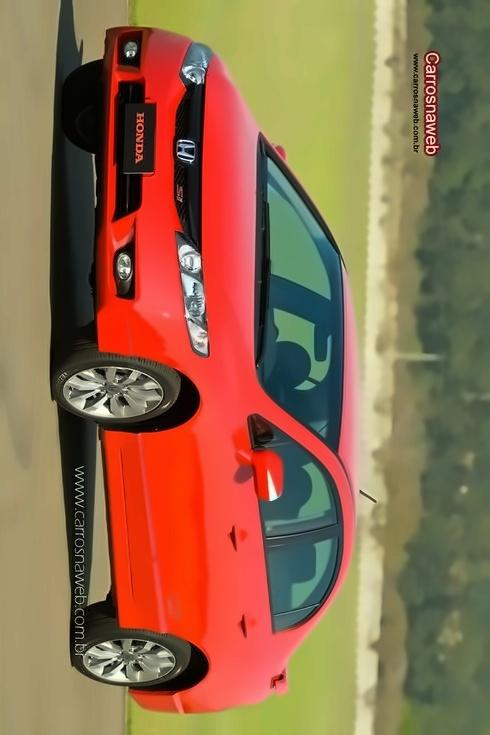Car hood: (199, 40, 260, 373)
Fender - -F-L-: (103, 348, 268, 452)
Fender - -R-L-: (109, 623, 285, 687)
Front bumper: (87, 13, 189, 369)
Headlight - -L-: (166, 226, 218, 364)
Headlight - -R-: (177, 26, 220, 95)
Passenger-s door - -F-L-: (119, 436, 358, 548)
Passenger-s door - -R-L-: (120, 533, 353, 653)
Rear bumper: (116, 685, 218, 735)
Rear light - -L-: (266, 666, 301, 700)
Side bumper - -L-: (94, 423, 140, 634)
Side mirror - -L-: (233, 437, 288, 508)
Side mirror - -R-: (262, 132, 302, 178)
